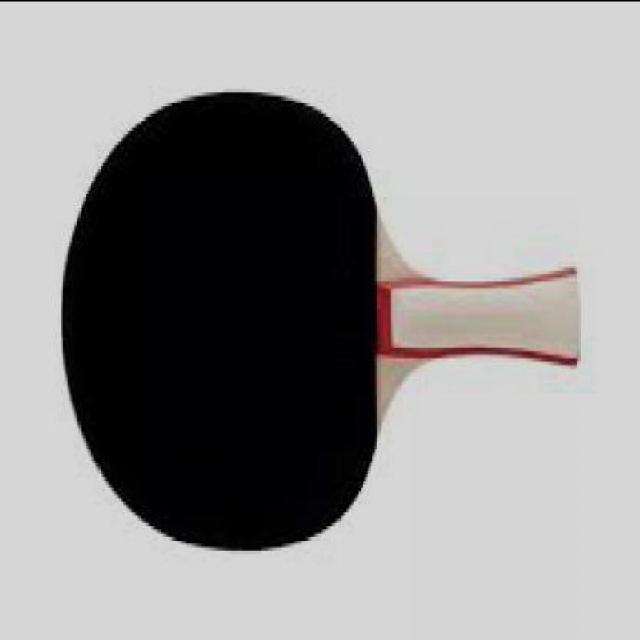table_tennis_racket: (54, 82, 401, 549)
